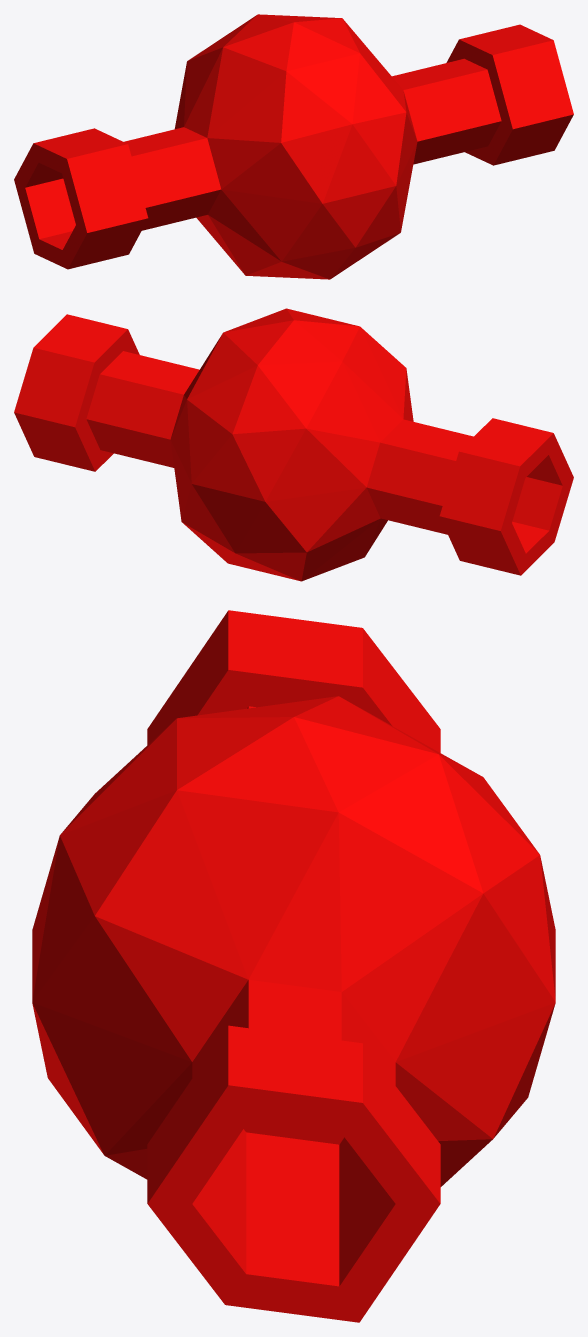
Rendered from enemy.fbx.
3 renders of one model, top to bottom at view 1: azimuth 30°, elevation 25°; view 2: azimuth 150°, elevation 25°; view 3: azimuth 270°, elevation 25°, orthographic. The views are drawn at different scales.
Visible parts, largest first — view 1: queen; view 2: queen; view 3: queen.
Part boxes in pixels (x1=…): queen: x1=14, y1=14, x2=573, y2=279; queen: x1=14, y1=308, x2=573, y2=581; queen: x1=32, y1=610, x2=555, y2=1322.
Bounding box in the file's own units: 11.03 × 5.4 × 5.14.
1 material, 1 textured.
